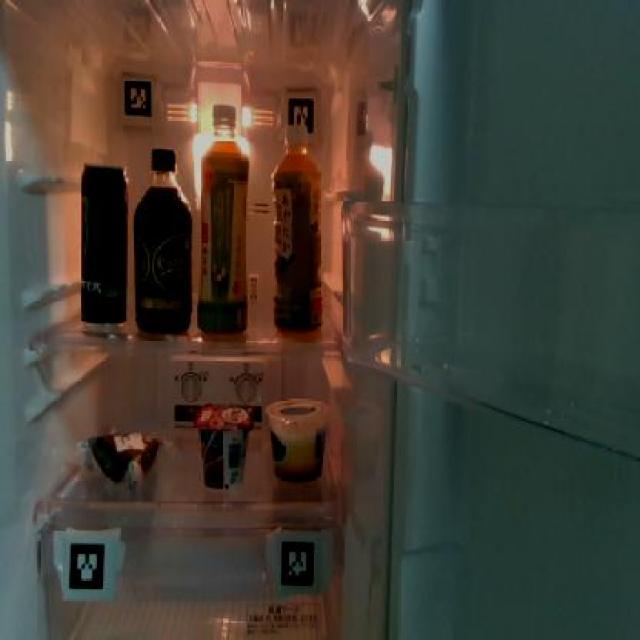coffee: (132, 147, 193, 335)
energy_drink: (76, 162, 130, 329)
pudding: (263, 393, 329, 484)
rice_ball: (80, 429, 162, 493)
tea_a: (268, 134, 324, 331)
tea_i: (196, 96, 250, 336)
yogurt: (195, 404, 254, 490)
